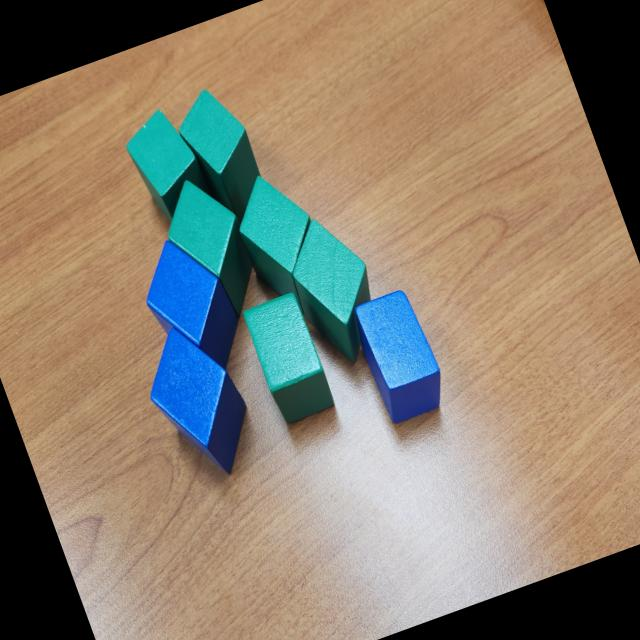blue: (130, 312, 266, 490), (128, 225, 254, 388), (346, 285, 454, 428)
green: (274, 206, 396, 374), (150, 166, 270, 331), (166, 79, 276, 233), (222, 163, 332, 305), (240, 289, 338, 427), (119, 102, 218, 232)
